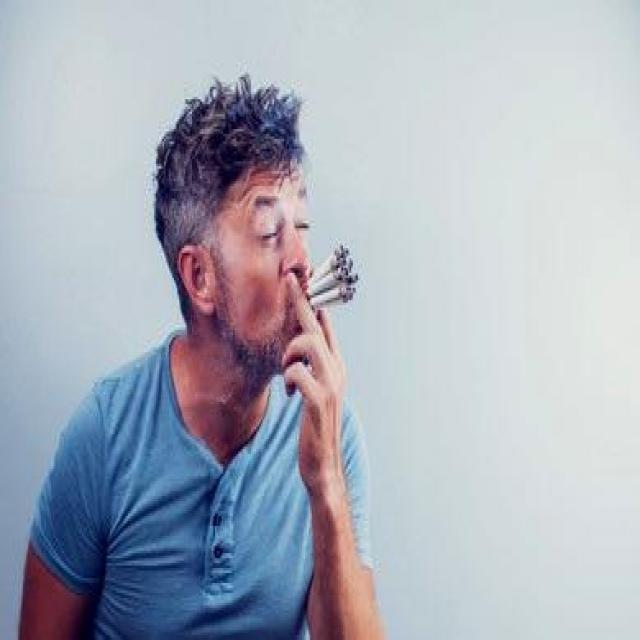smoke: (284, 250, 367, 340)
